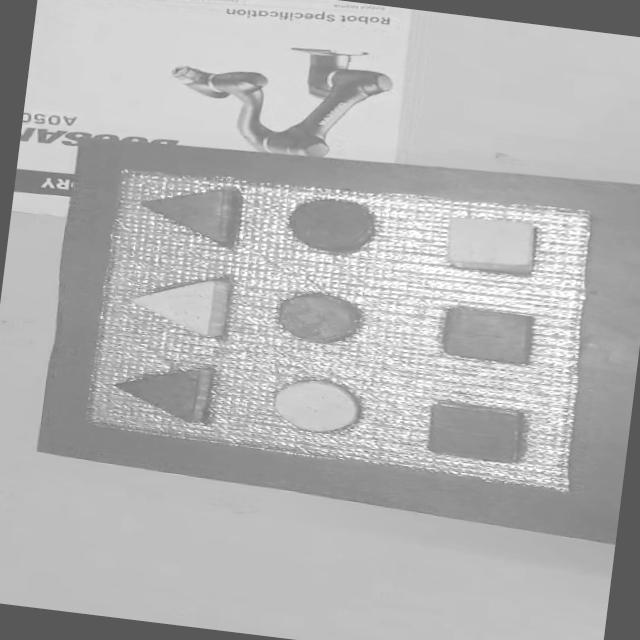bcircle: (284, 192, 382, 257)
bcube: (436, 302, 538, 368)
btriangle: (103, 355, 222, 427)
rcircle: (278, 288, 364, 346)
rcube: (422, 398, 528, 466)
rtriangle: (134, 176, 245, 248)
wb: (88, 169, 591, 491)
ycircle: (267, 374, 366, 436)
ycube: (440, 210, 541, 276)
ytriangle: (124, 265, 228, 338)
